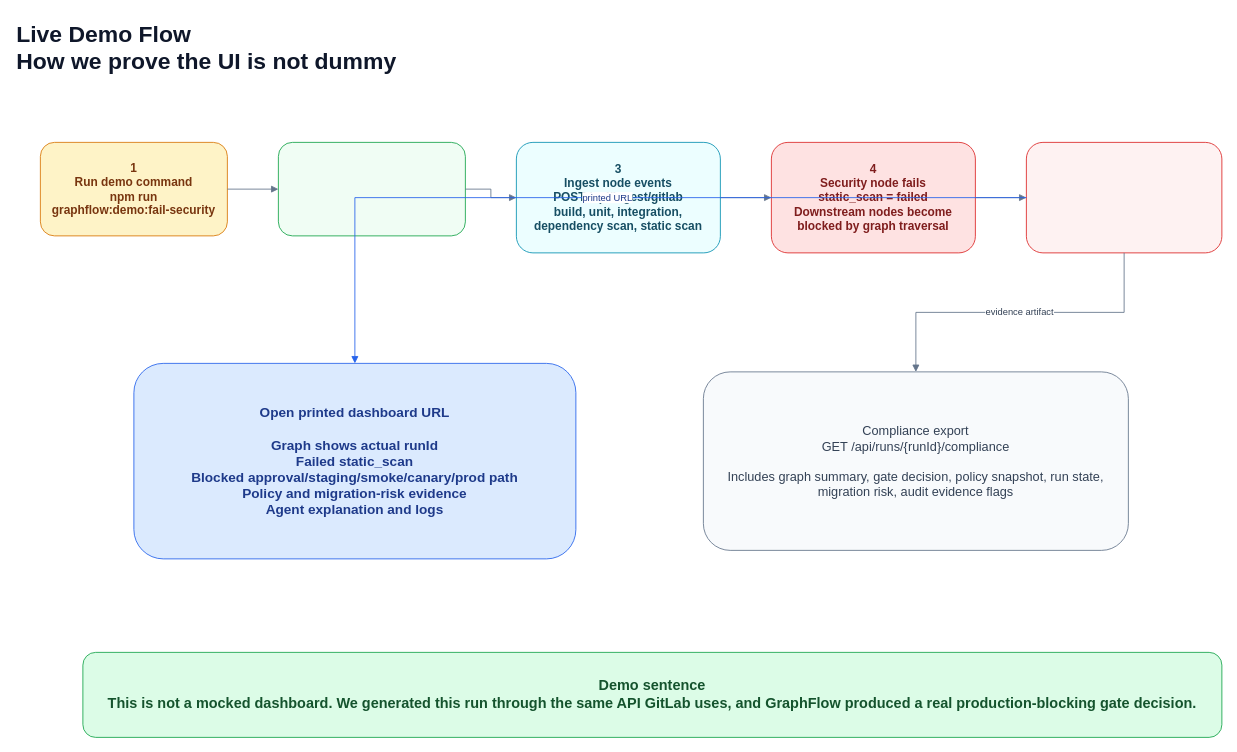
Some shapes in this 1237 by 752 pixel diagram are drawn without their labels. Here are the shapes that lost their labels. From the top down, the centre of each, then its label:
At pixel 371 189: "2 Register workflow POST /api/workflows/register checkout-release-v1".
At pixel 1124 197: "5 Call release gate GET /api/runs/{runId}/gate Returns HTTP 409 + FAIL".
